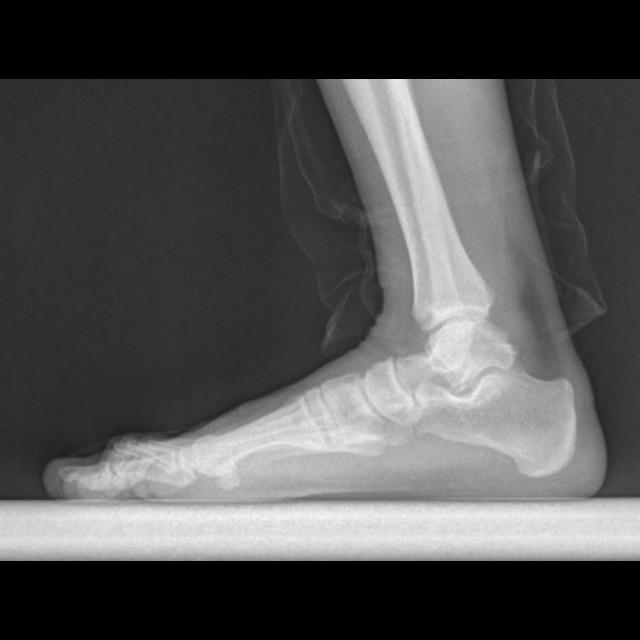a: (419, 362, 576, 476)
b: (362, 358, 422, 426)
c: (187, 394, 329, 479)
